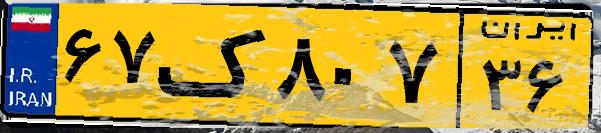0: (330, 28, 385, 110)
3: (475, 38, 525, 113)
6: (57, 26, 110, 100), (525, 38, 570, 115)
7: (385, 28, 445, 110), (110, 28, 158, 98)
8: (270, 28, 330, 110)
ک: (158, 12, 270, 120)
